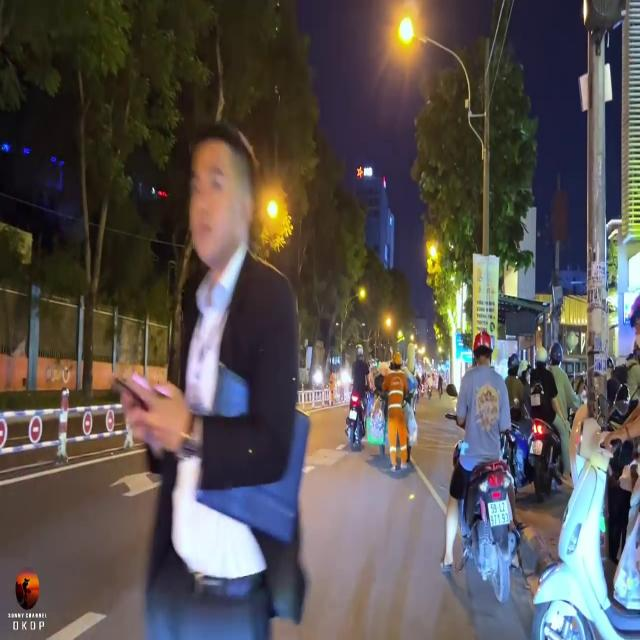bien_trang: (486, 497, 512, 534)
